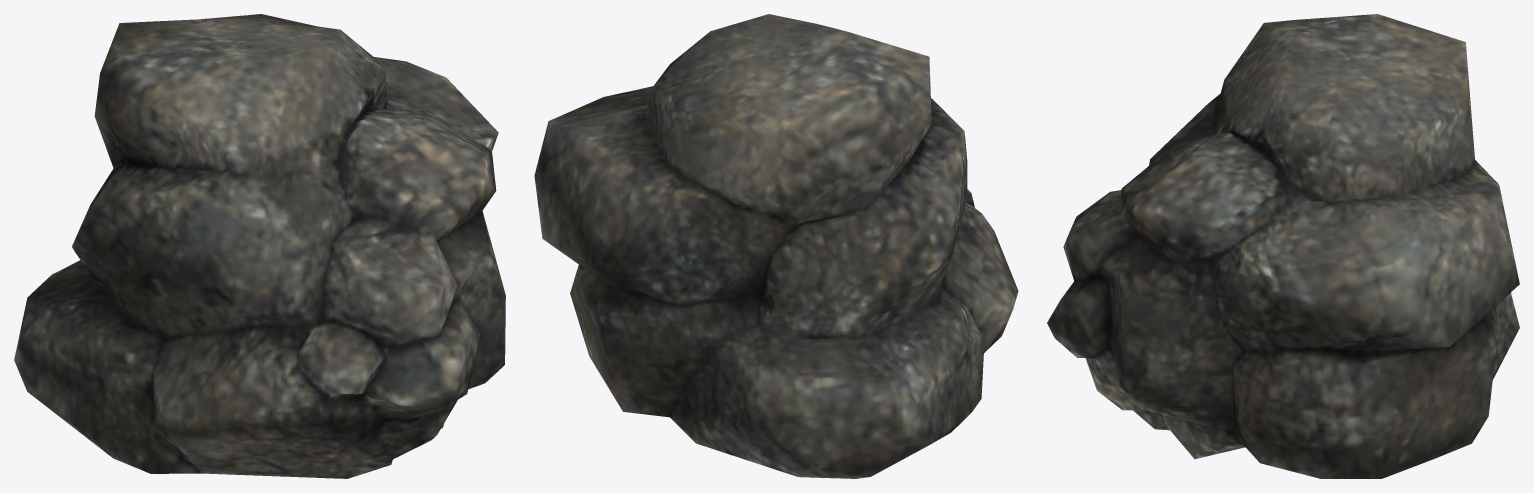
The model's file is SC_yonghengsenlin_shitou12.FBX.
3 views of the same model, side by side, from view 1: azimuth 30°, elevation 25°; view 2: azimuth 150°, elevation 25°; view 3: azimuth 270°, elevation 25° (orthographic). The views are drawn at different scales.
Visible parts, largest first — view 1: SC_yonghengsenlin_shitou12; view 2: SC_yonghengsenlin_shitou12; view 3: SC_yonghengsenlin_shitou12.
Boxes of the visible parts, box(x1,y1,x2,y2) form: SC_yonghengsenlin_shitou12: box(14, 14, 505, 478); SC_yonghengsenlin_shitou12: box(534, 14, 1018, 478); SC_yonghengsenlin_shitou12: box(1047, 14, 1519, 478).
Size of the model in its own units: 557 by 498 by 571.
